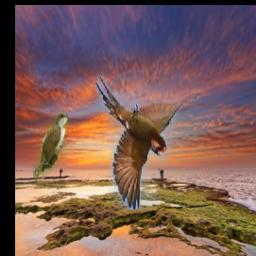Cuckoo: (34, 114, 69, 190)
Swallow: (96, 75, 201, 210)
